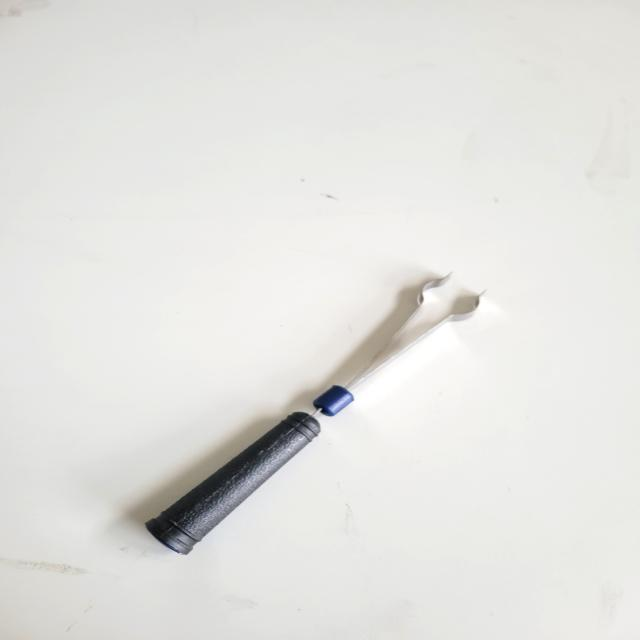TestTube_Holder: (111, 264, 507, 572)
